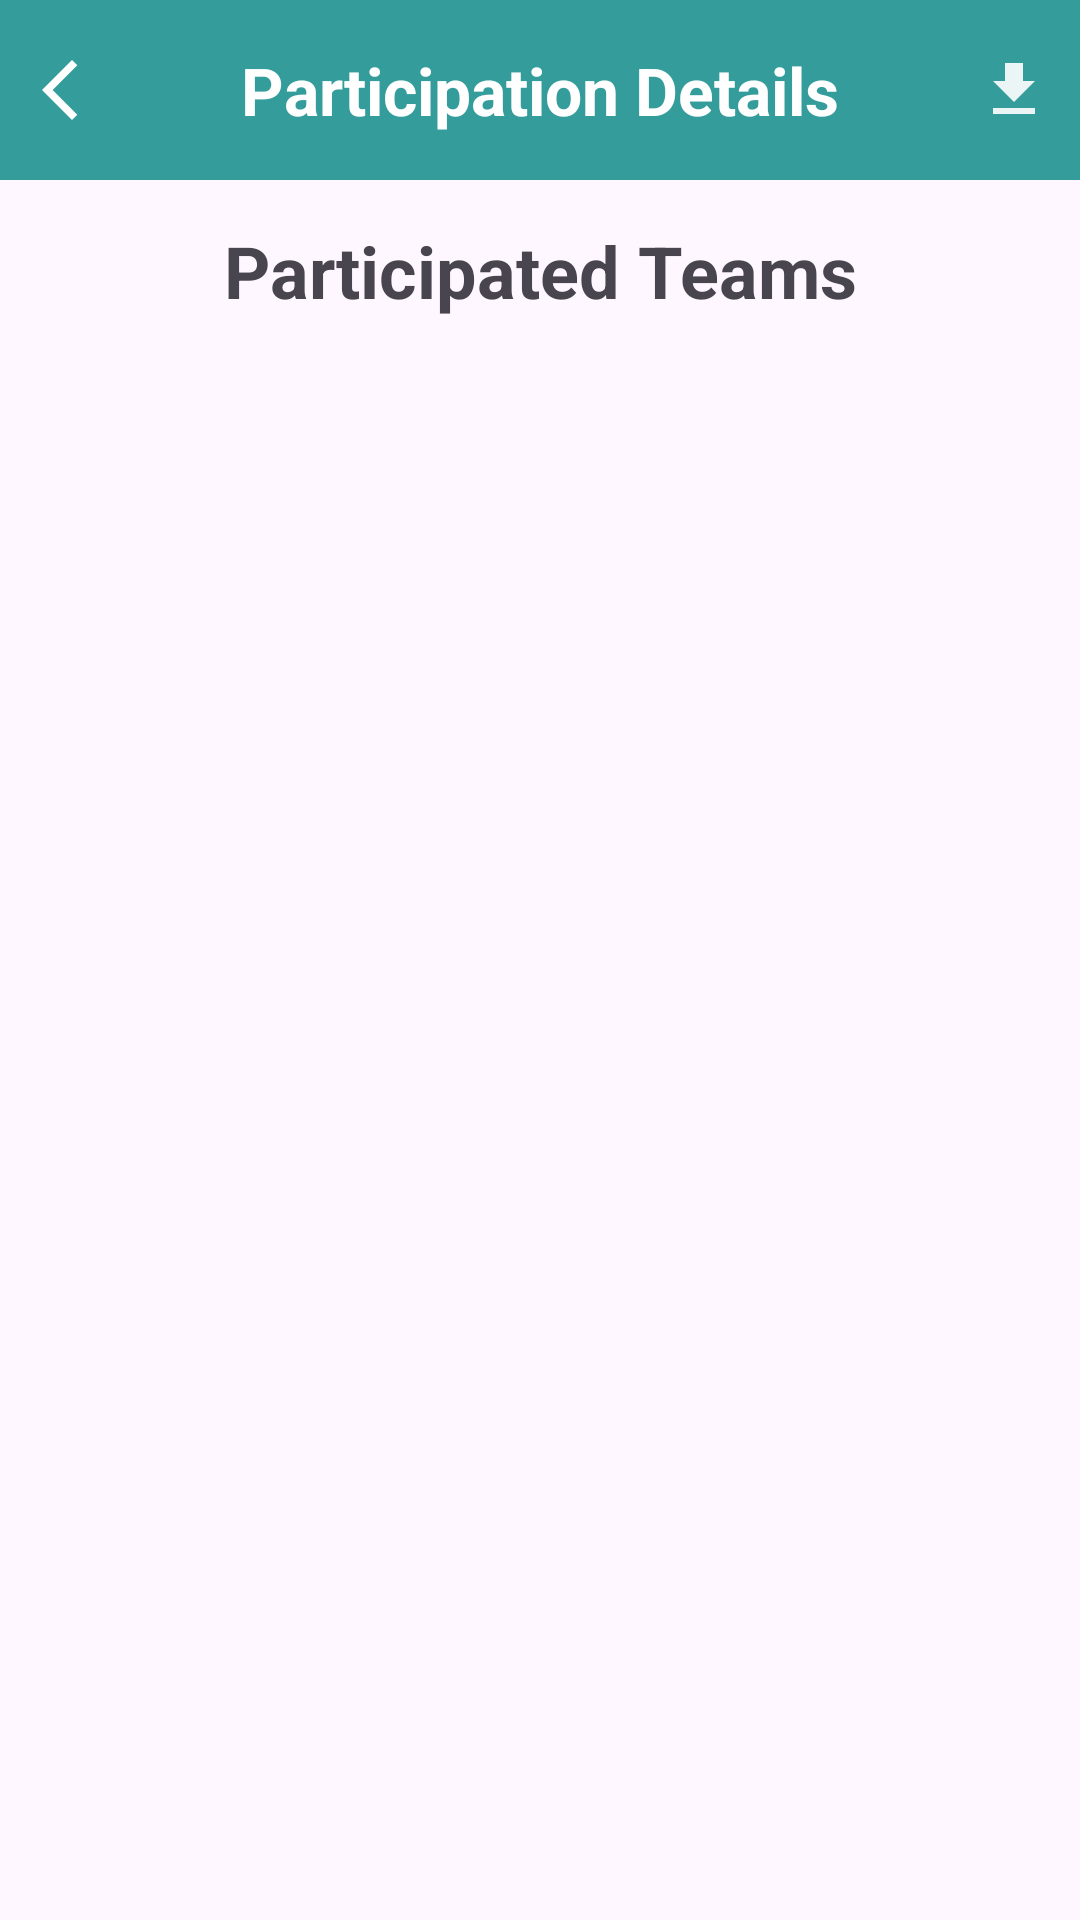

Named icons in this screenshot (1080px×1920px) and their centers, [x,y]:
back: [59,90]
download: [1014,88]
